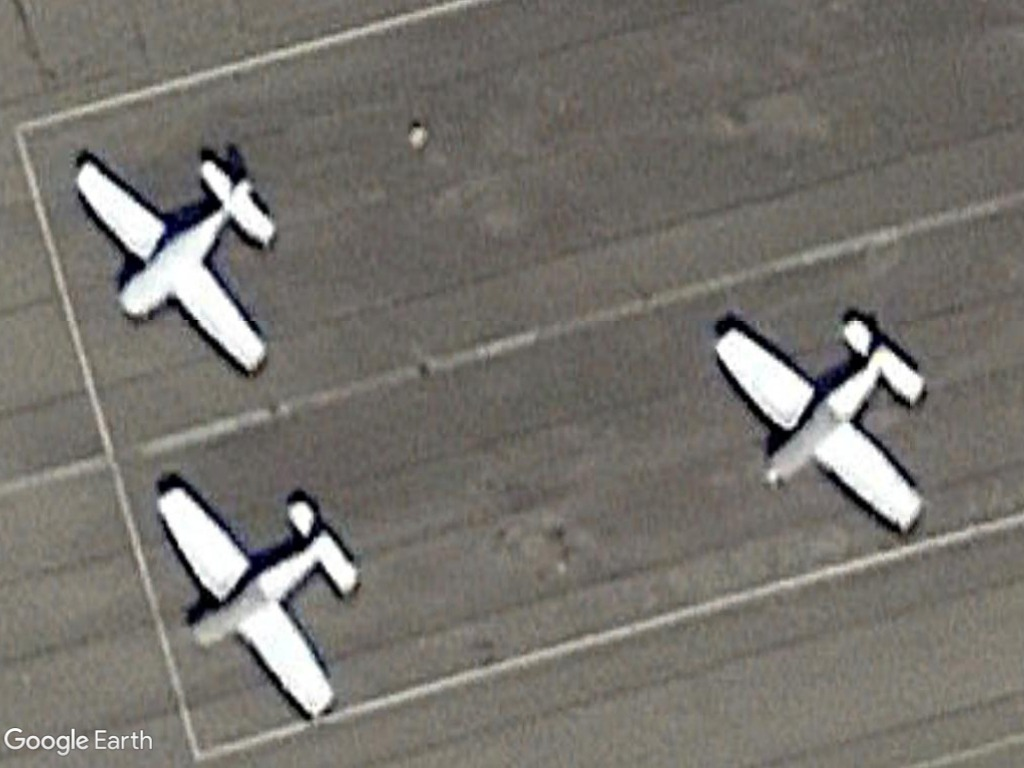trainer: (154, 474, 364, 732), (709, 312, 934, 542), (73, 149, 280, 380)
